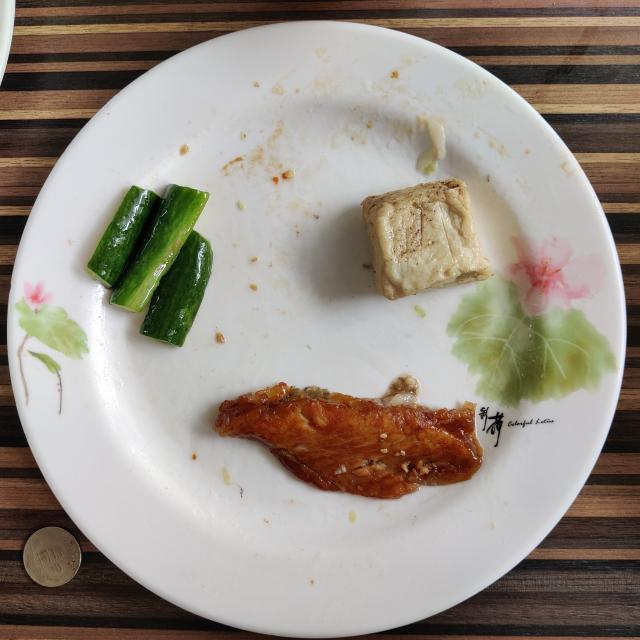Kabayaki sea bream fillet: (214, 375, 484, 499)
coin: (24, 526, 81, 588)
creamy tofu -without sauce-: (361, 179, 492, 300)
cucumber: (88, 185, 212, 346)
